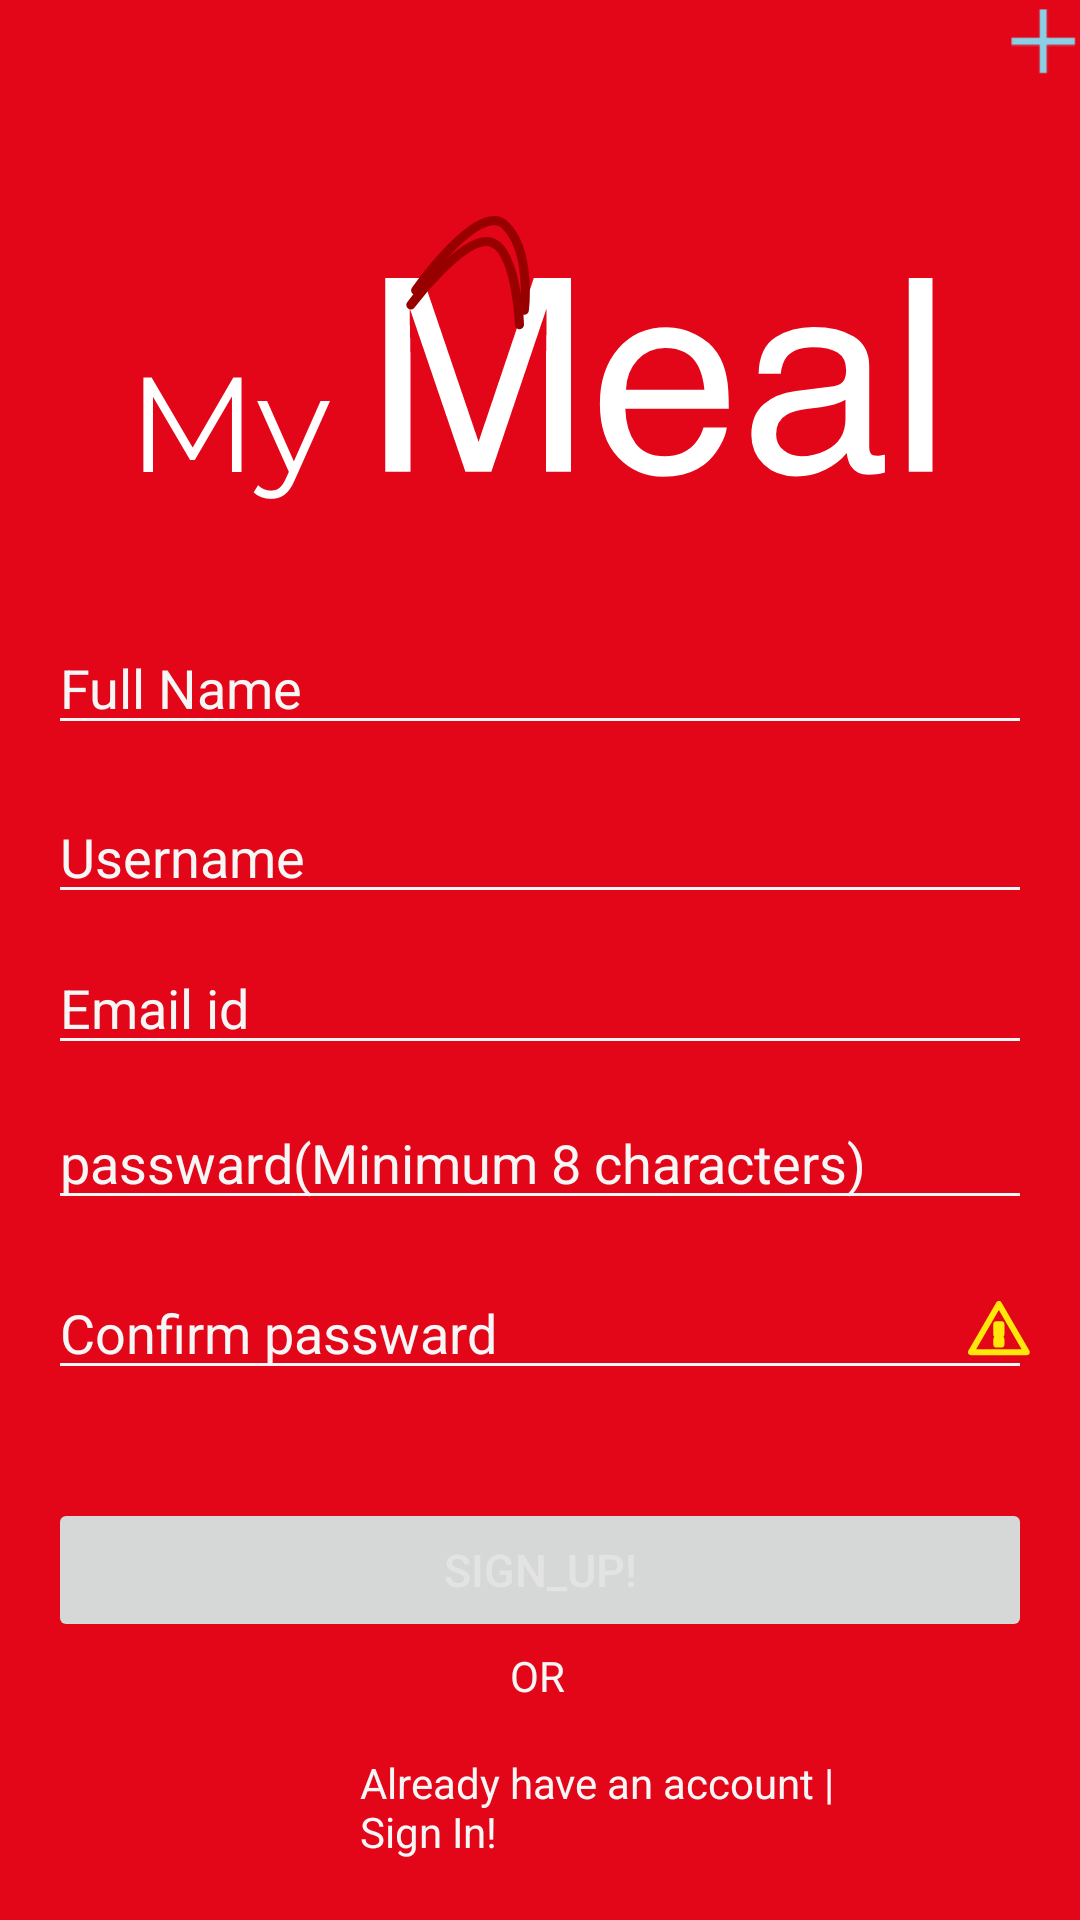

Screen size 1080 × 1920. Icon name, then its center in pixels as [x,y]:
custom error: [999,1328]
